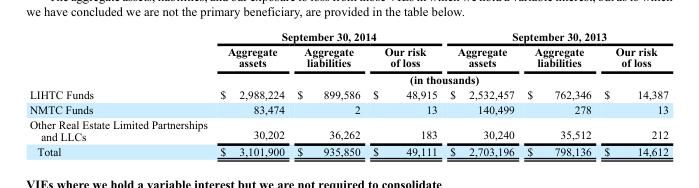table: (28, 29, 667, 157)
table column: (28, 29, 213, 157), (213, 29, 290, 157), (366, 29, 443, 157), (443, 29, 520, 157), (520, 29, 597, 157), (290, 29, 366, 157), (597, 29, 667, 157)
table column header: (28, 29, 667, 86)
table row: (28, 43, 667, 70), (28, 116, 667, 143), (28, 70, 667, 86), (28, 86, 667, 101), (28, 101, 667, 116), (28, 29, 667, 43), (28, 143, 667, 157)
table spanning cell: (213, 70, 667, 86), (213, 29, 443, 43), (443, 29, 667, 43)
